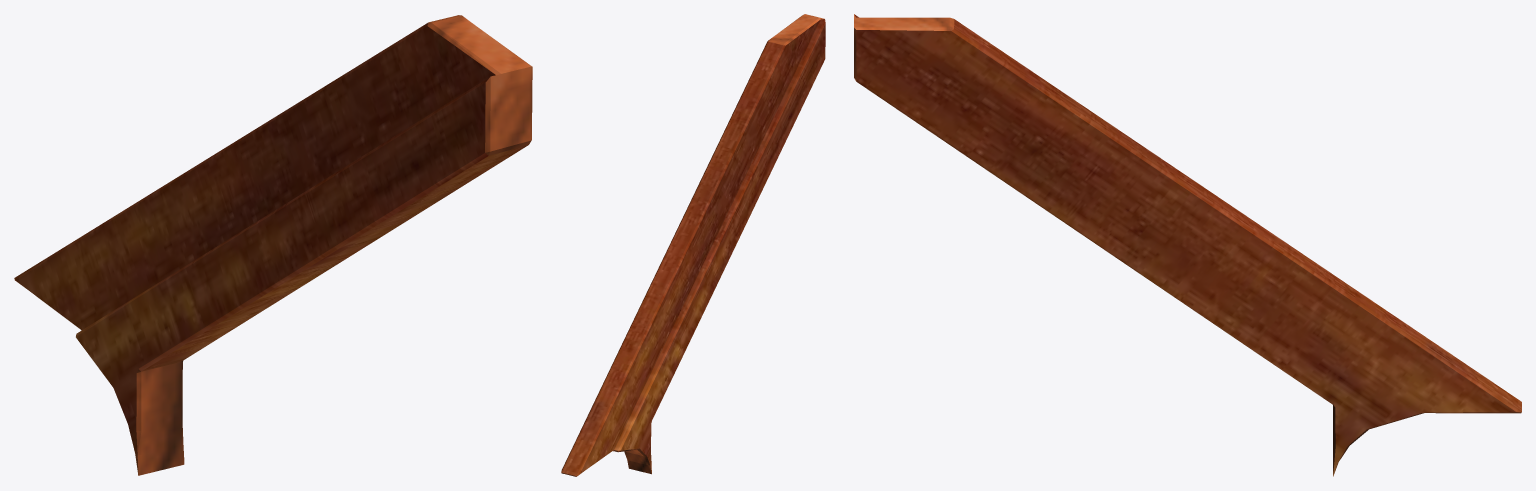
File: SJ_J_chaxiao_04.FBX
3 views of the same model, side by side, from view 1: azimuth 30°, elevation 25°; view 2: azimuth 150°, elevation 25°; view 3: azimuth 270°, elevation 25° (orthographic). The views are drawn at different scales.
Parts seen in each view (by area): view 1: SJ_J_chaxiao_04; view 2: SJ_J_chaxiao_04; view 3: SJ_J_chaxiao_04.
Part boxes in pixels (x1,y1,x2,y2): SJ_J_chaxiao_04: [14, 15, 532, 475]; SJ_J_chaxiao_04: [561, 14, 825, 476]; SJ_J_chaxiao_04: [854, 14, 1521, 476].
Bounding box in the file's own units: 0.2956 × 3.91 × 5.27.
Materials: 2 (2 with a texture image).
